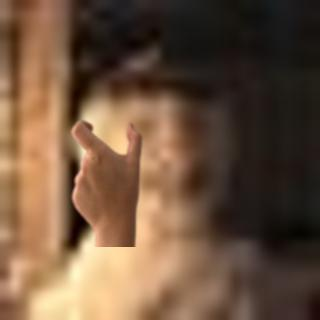HATE: (70, 113, 152, 237)
